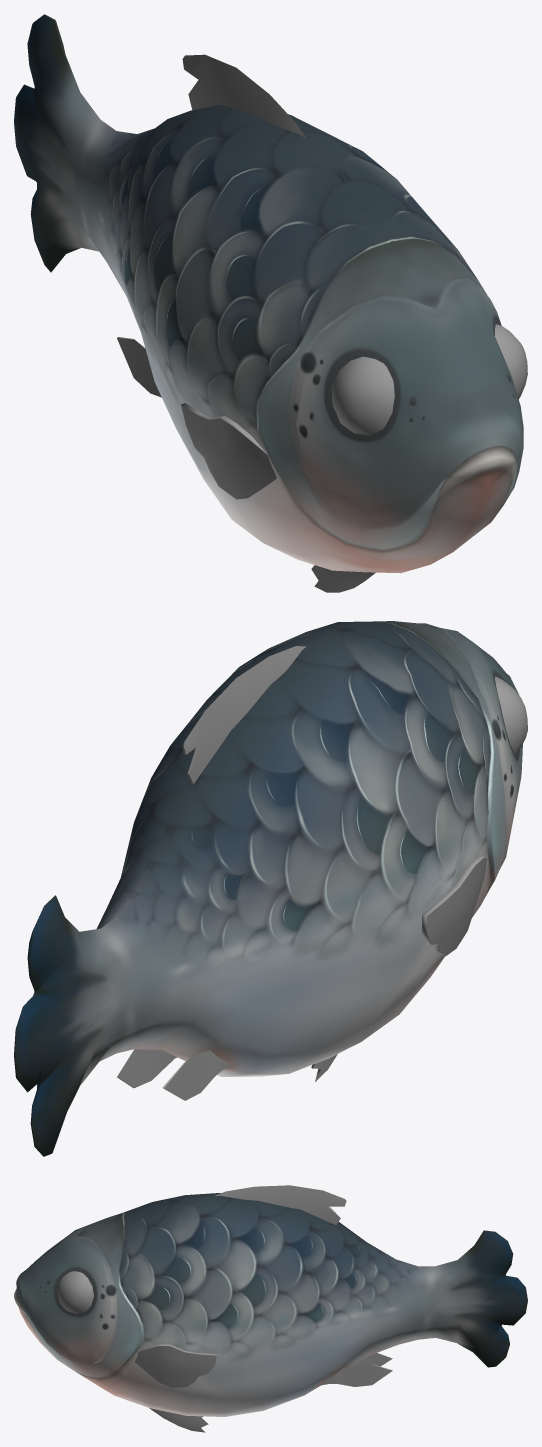
File: new edited fish.FBX
3 renders of one model, top to bottom at view 1: azimuth 30°, elevation 25°; view 2: azimuth 150°, elevation 25°; view 3: azimuth 270°, elevation 25°, orthographic. The views are drawn at different scales.
Parts seen in each view (by area): view 1: 鱼身部分, 鱼眼睛, 中部鱼鳍, 上方鱼鳍, 尾部鱼鳍, 下部鱼鳍; view 2: 鱼身部分, 上方鱼鳍, 中部鱼鳍, 尾部鱼鳍, 鱼眼睛; view 3: 鱼身部分, 中部鱼鳍, 上方鱼鳍, 尾部鱼鳍, 鱼眼睛, 下部鱼鳍.
Boxes of the visible parts, left/top/right/bottom form: 鱼身部分: left=14, top=14, right=523, bottom=573; 鱼眼睛: left=331, top=324, right=527, bottom=435; 中部鱼鳍: left=181, top=403, right=276, bottom=499; 上方鱼鳍: left=182, top=54, right=306, bottom=138; 尾部鱼鳍: left=117, top=337, right=161, bottom=397; 下部鱼鳍: left=311, top=565, right=375, bottom=592; 鱼身部分: left=14, top=621, right=522, bottom=1156; 上方鱼鳍: left=182, top=646, right=305, bottom=784; 中部鱼鳍: left=421, top=855, right=487, bottom=956; 尾部鱼鳍: left=117, top=1049, right=231, bottom=1100; 鱼眼睛: left=495, top=676, right=527, bottom=753; 鱼身部分: left=14, top=1193, right=527, bottom=1416; 中部鱼鳍: left=135, top=1344, right=217, bottom=1387; 上方鱼鳍: left=215, top=1185, right=346, bottom=1225; 尾部鱼鳍: left=320, top=1353, right=392, bottom=1386; 鱼眼睛: left=57, top=1271, right=93, bottom=1313; 下部鱼鳍: left=149, top=1408, right=208, bottom=1432.
Bounding box in the file's own units: 9.31 × 15.96 × 30.05.
